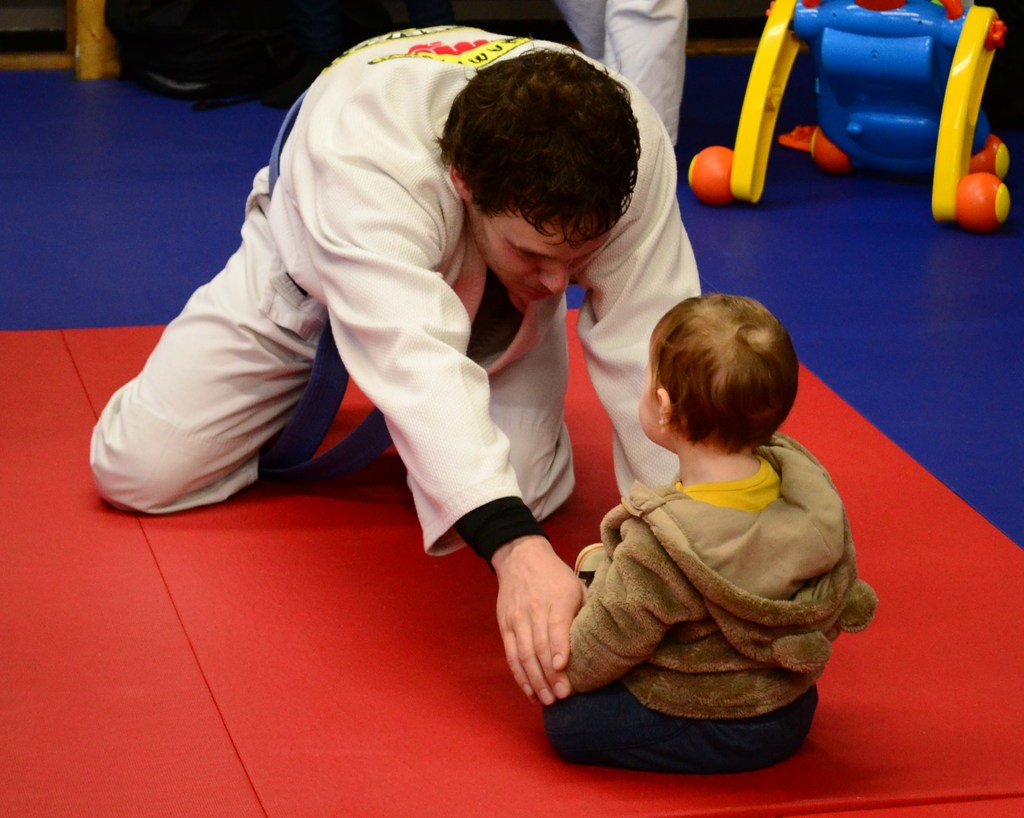Human_hand: (496, 538, 587, 704)
